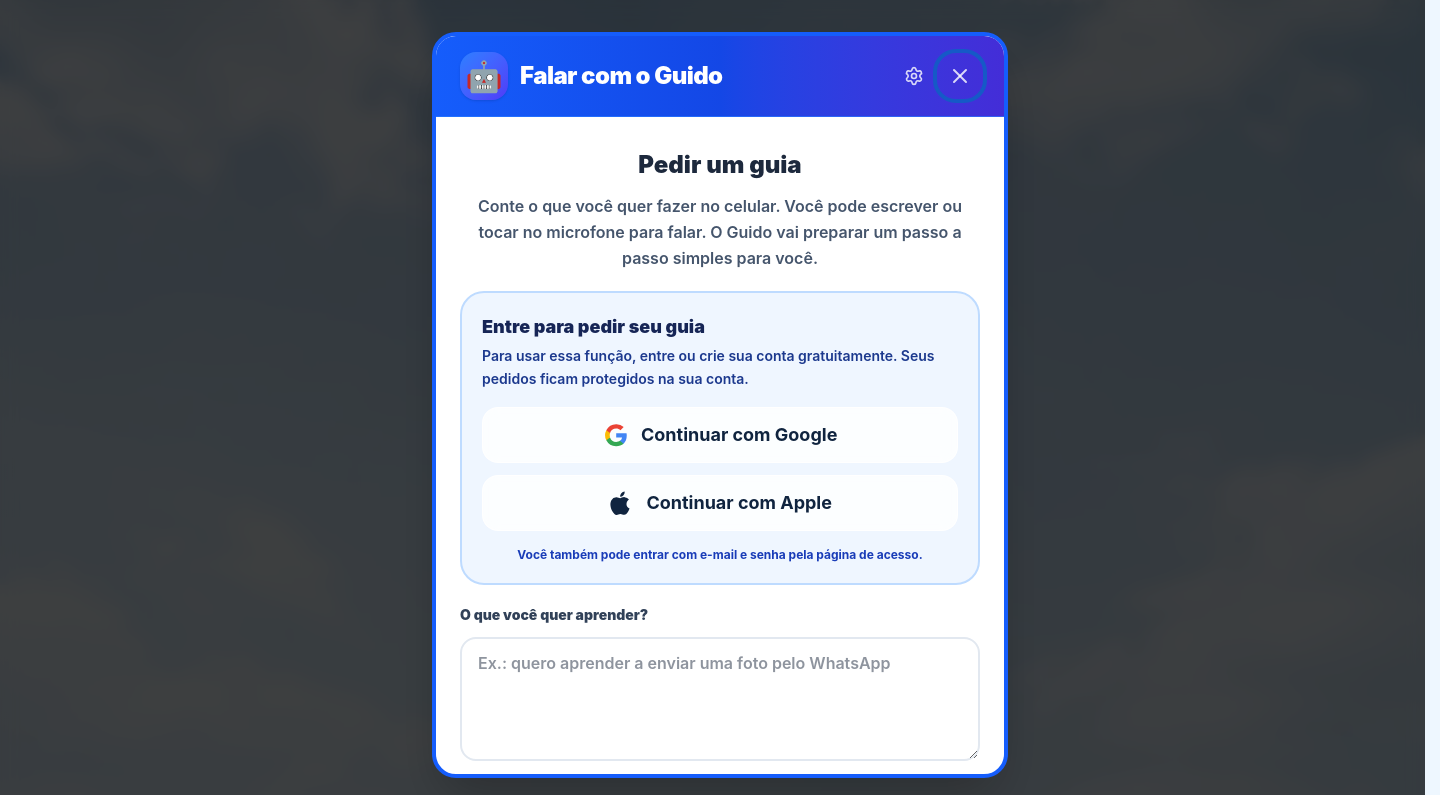
AskGuidoModal - Personalização de Voz e Avatar › permite selecionar um avatar e salva a preferência no localStorage
The image size is (1440, 795).
Step 1. Click the button named "Personalizar voz e avatar" → x=914, y=76, box [896,58,932,94]
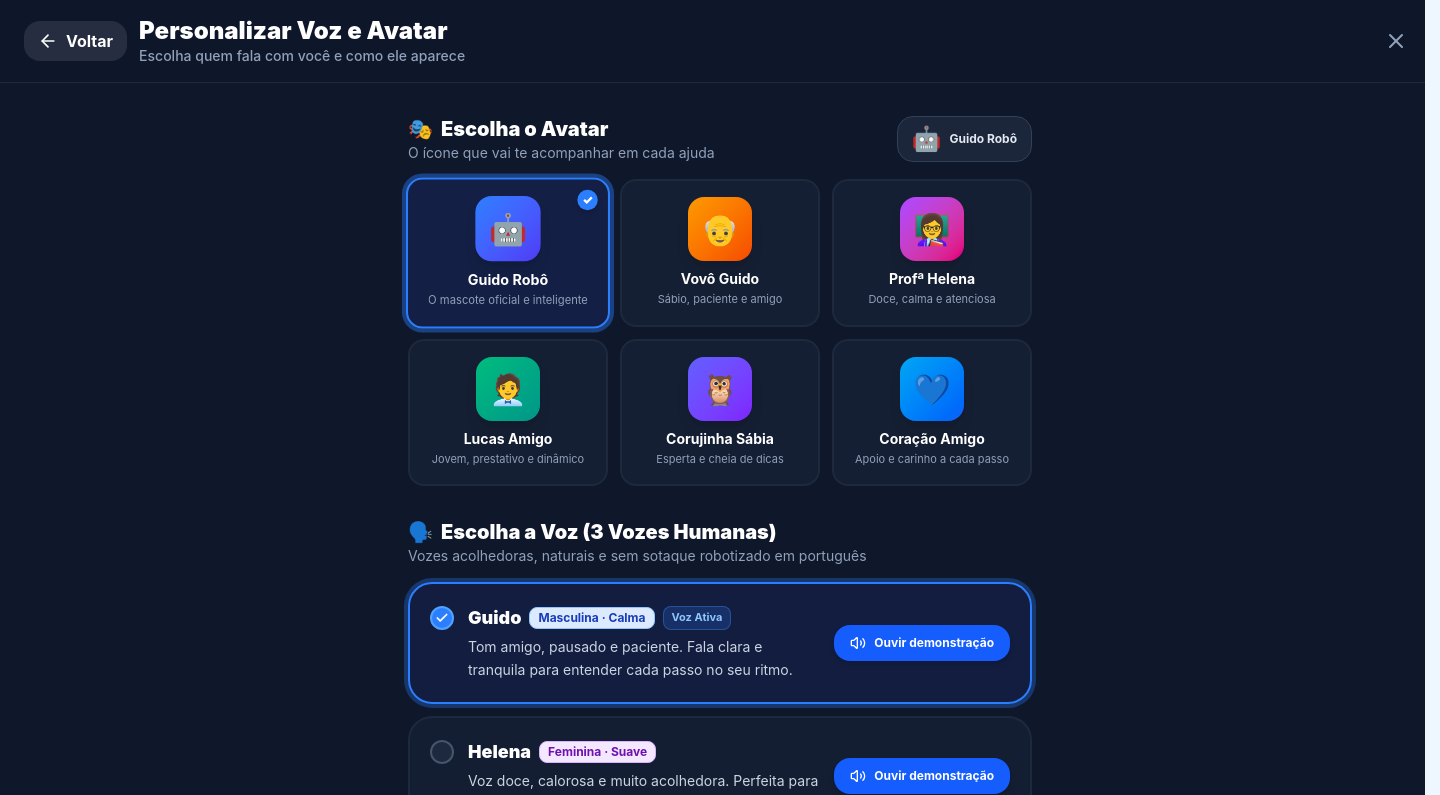
Step 2. Click the button "👴 Vovô Guido Sábio, paciente e amigo" → x=720, y=253, box [620,179,820,327]
(page scrolled)
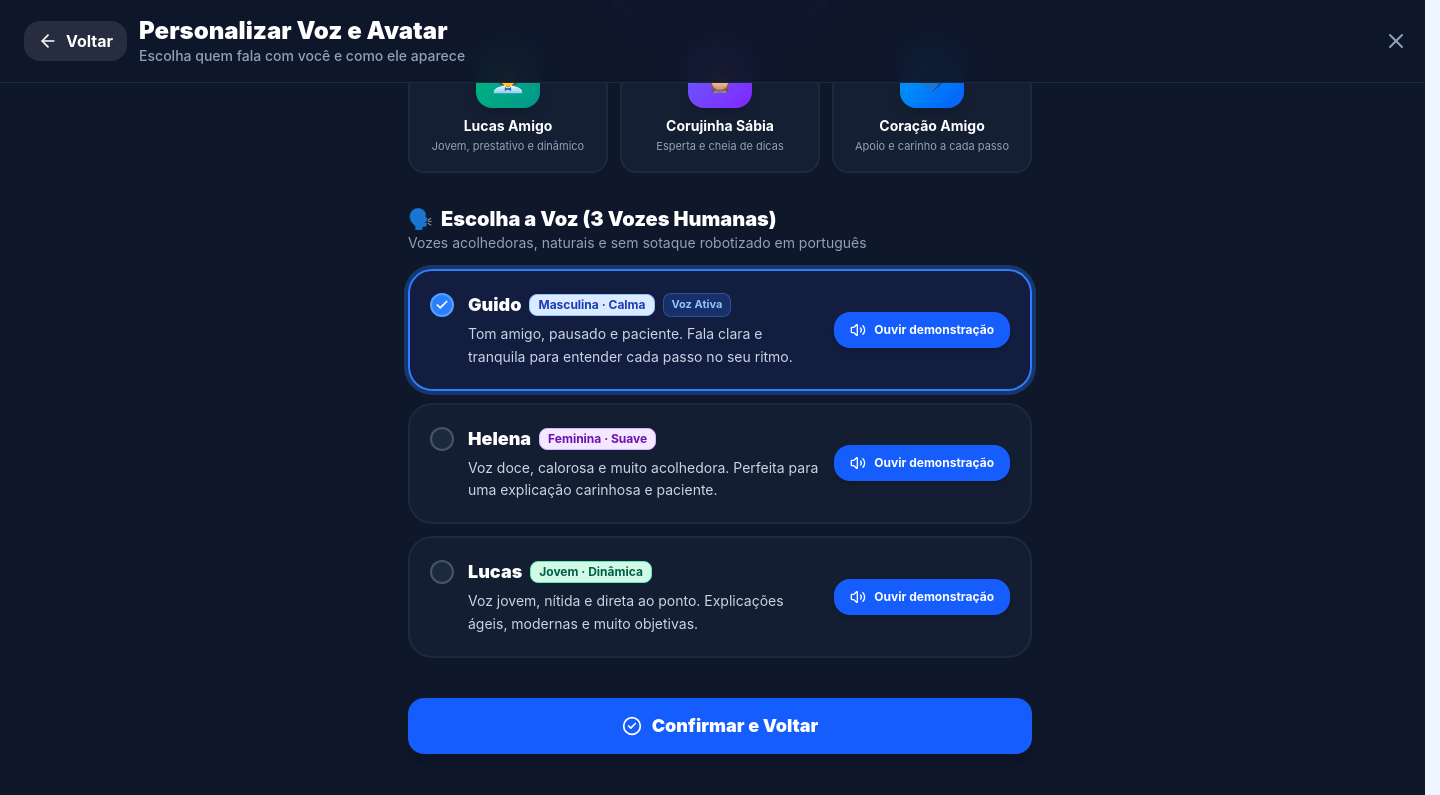
# Fecha o menu pelo botão de confirmação
Step 3. Click the button "Confirmar e Voltar" → x=720, y=726, box [408,698,1032,754]
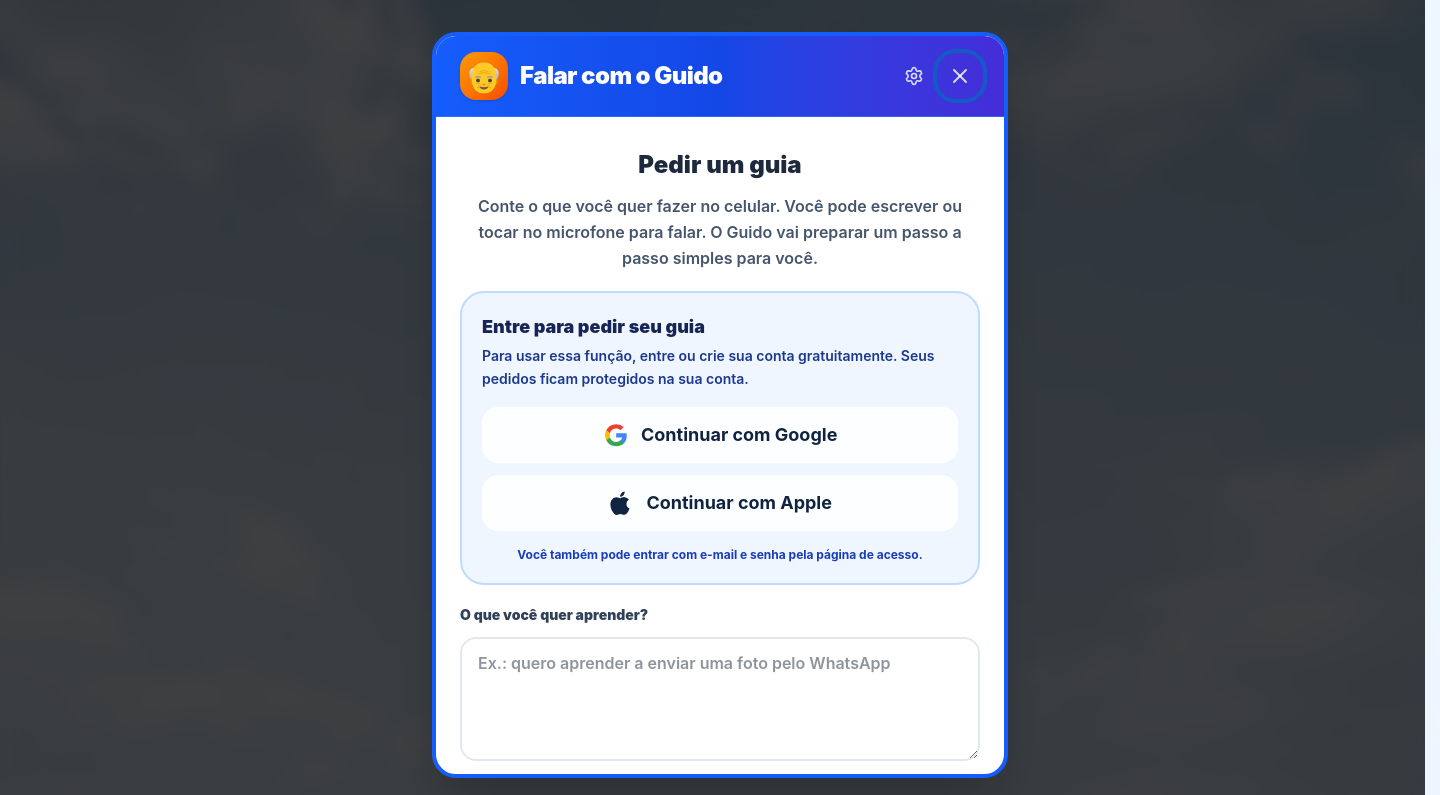
Expected: the text titled "Avatar: Vovô Guido" is shown, [460,52,508,100]
Expected: the heading "Personalizar Voz e Avatar" is gone
